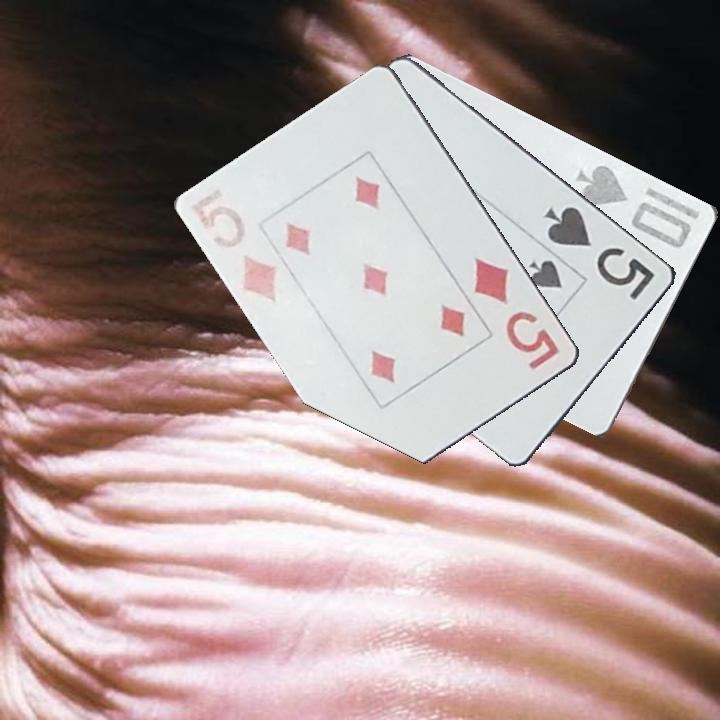5d: (468, 254, 563, 373), (201, 201, 281, 305)
5s: (541, 202, 659, 304)
Ts: (573, 160, 695, 251)
